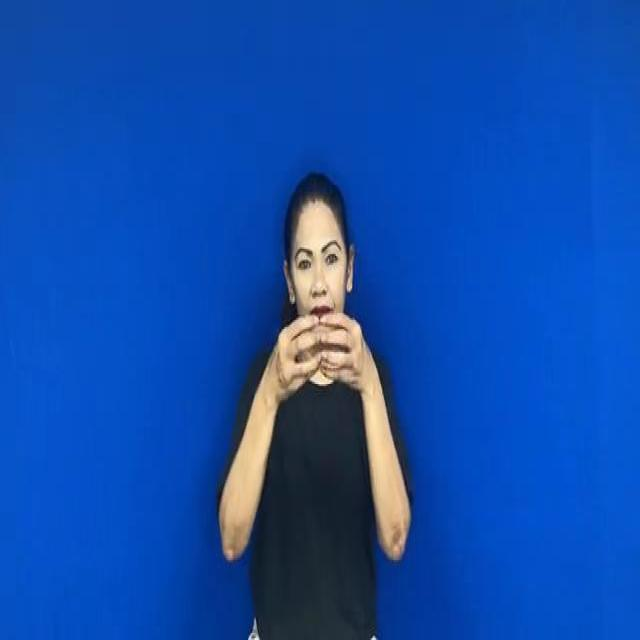egg: (262, 310, 380, 399)
